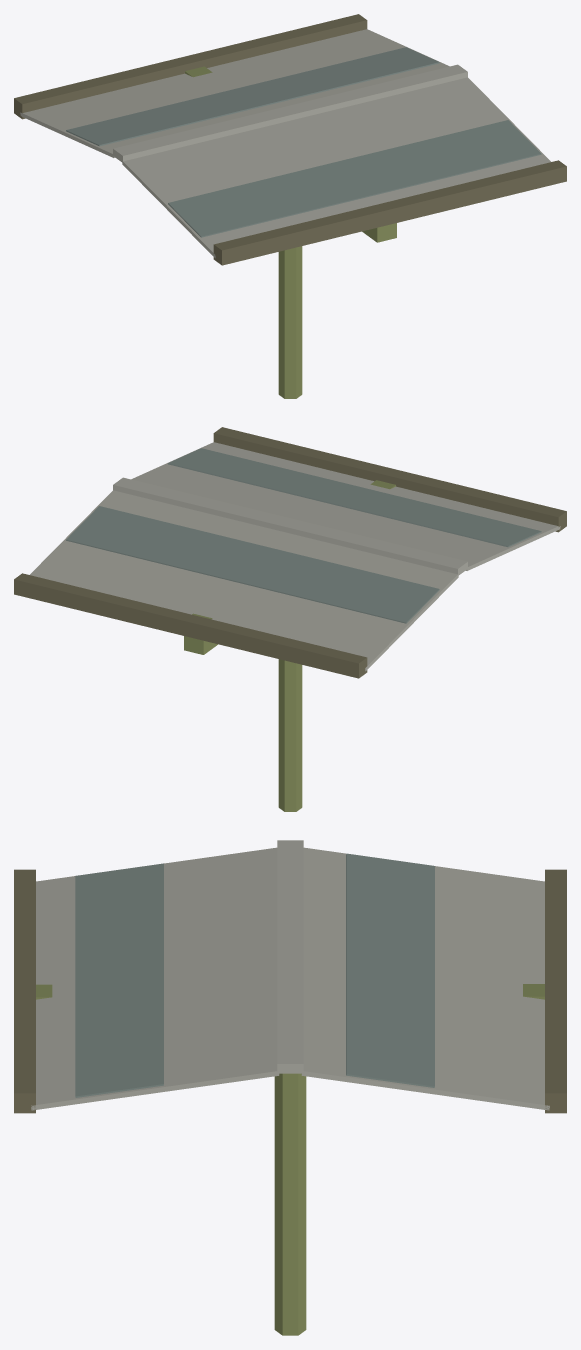
The model's file is SM_KitMarquesina_v2_LOD1.fbx.
3 views of the same model, one above another, from view 1: azimuth 30°, elevation 25°; view 2: azimuth 150°, elevation 25°; view 3: azimuth 270°, elevation 25° (orthographic). The views are drawn at different scales.
Parts seen in each view (by area): view 1: SM_bloques.kit_marquesina_v2_LOD1; view 2: SM_bloques.kit_marquesina_v2_LOD1; view 3: SM_bloques.kit_marquesina_v2_LOD1.
Part boxes in pixels (x1=…): SM_bloques.kit_marquesina_v2_LOD1: x1=14, y1=14, x2=566, y2=398; SM_bloques.kit_marquesina_v2_LOD1: x1=14, y1=427, x2=566, y2=811; SM_bloques.kit_marquesina_v2_LOD1: x1=14, y1=840, x2=566, y2=1335.
Bounding box in the file's own units: 5.98 × 4.71 × 6.25.
